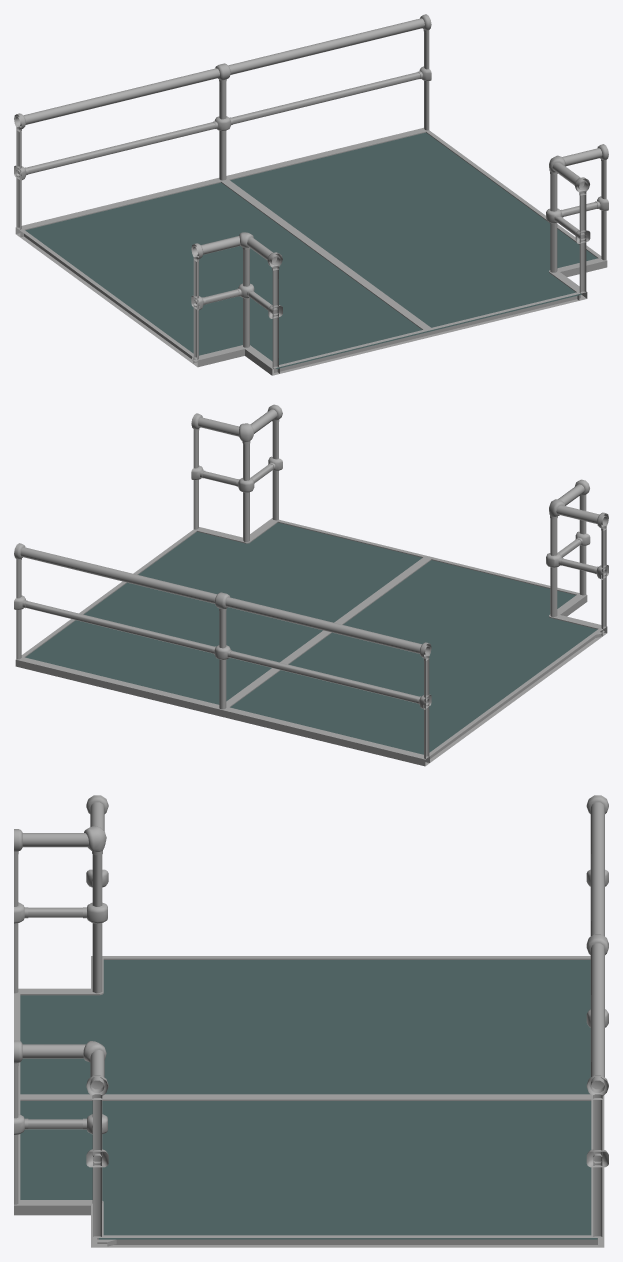
File: RailWalk_T.fbx
The picture shows the model from 3 angles, top to bottom: view 1: azimuth 30°, elevation 25°; view 2: azimuth 150°, elevation 25°; view 3: azimuth 270°, elevation 25°; orthographic projection. The views are drawn at different scales.
Parts seen in each view (by area): view 1: glass08, RailWalk_T_RailingJoint32, RailWalk_T_RailingJoint31, lineplank16, Mainrailing, Mainrailing1, lineplank04, midrailing01, midrailing02, Railingvert12, lineplank01, lineplank05 (+3 smaller); view 2: glass08, RailWalk_T_RailingJoint32, RailWalk_T_RailingJoint31, lineplank01, lineplank05, Mainrailing, Mainrailing1, lineplank04, midrailing01, midrailing02, Railingvert12, lineplank16 (+3 smaller); view 3: glass08, RailWalk_T_RailingJoint31, RailWalk_T_RailingJoint32, lineplank04, Mainrailing1, Mainrailing, Railingvert4, Railingvert12, lineplank05, lineplank16.
Boxes of the visible parts, x1,y1,x2,y2 form: glass08: (25,132,597,368); RailWalk_T_RailingJoint32: (20,132,598,375); RailWalk_T_RailingJoint31: (424,129,608,300); lineplank16: (274,292,582,374); Mainrailing: (15,68,219,126); Mainrailing1: (228,18,424,74); lineplank04: (221,180,430,329); midrailing01: (16,122,215,176); midrailing02: (231,72,420,124); Railingvert12: (272,194,586,368); lineplank01: (15,178,224,237); lineplank05: (224,127,425,180); glass08: (25,522,597,754); RailWalk_T_RailingJoint32: (21,484,608,762); RailWalk_T_RailingJoint31: (21,409,279,657); lineplank01: (220,706,429,766); lineplank05: (15,657,220,716); Mainrailing: (225,597,429,655); Mainrailing1: (20,547,216,603); lineplank04: (226,557,431,707); midrailing01: (230,651,429,705); midrailing02: (25,601,213,653); Railingvert12: (272,422,586,595); lineplank16: (274,520,581,595); glass08: (20,960,597,1239); RailWalk_T_RailingJoint31: (14,1041,597,1247); RailWalk_T_RailingJoint32: (14,795,591,1247); lineplank04: (20,1094,591,1100); Mainrailing1: (590,943,604,1092); Mainrailing: (590,802,604,936); Railingvert4: (593,1100,602,1236); Railingvert12: (14,855,18,1204); lineplank05: (591,1097,604,1247); lineplank16: (14,993,20,1199).
Bounding box in the file's own units: 2 × 0.5651 × 1.78.
